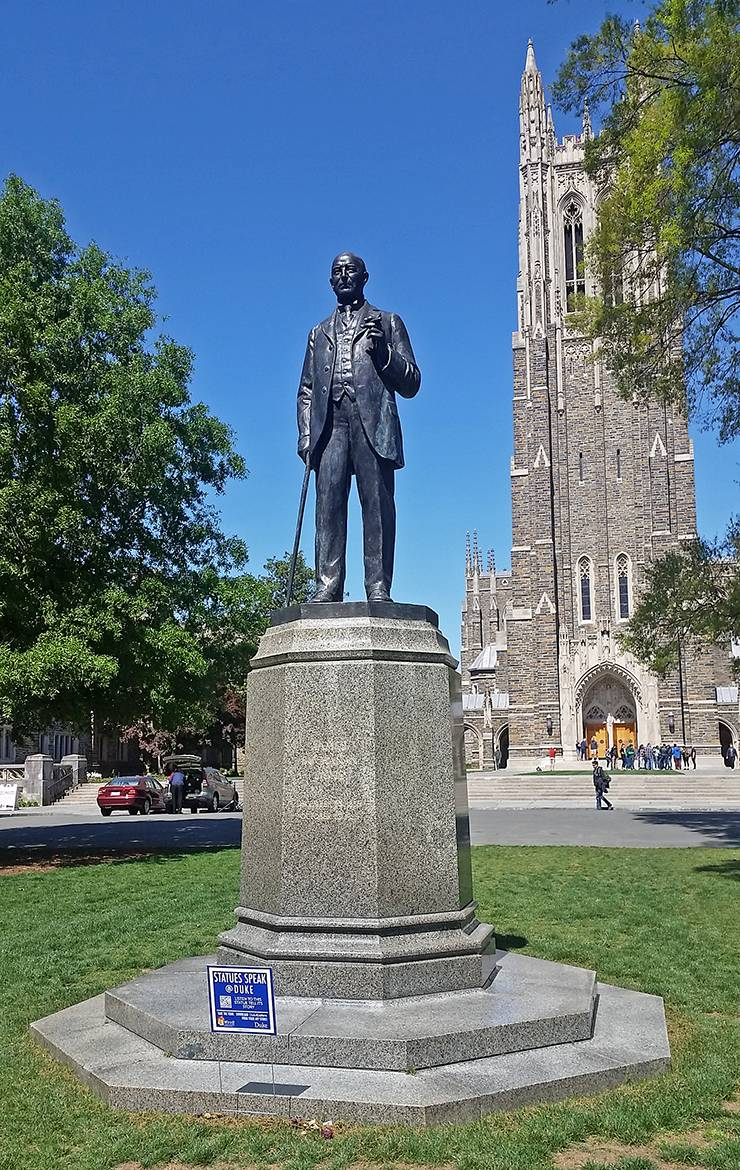person: (587, 761, 615, 815), (163, 760, 192, 810)
person-like: (283, 238, 427, 605)
